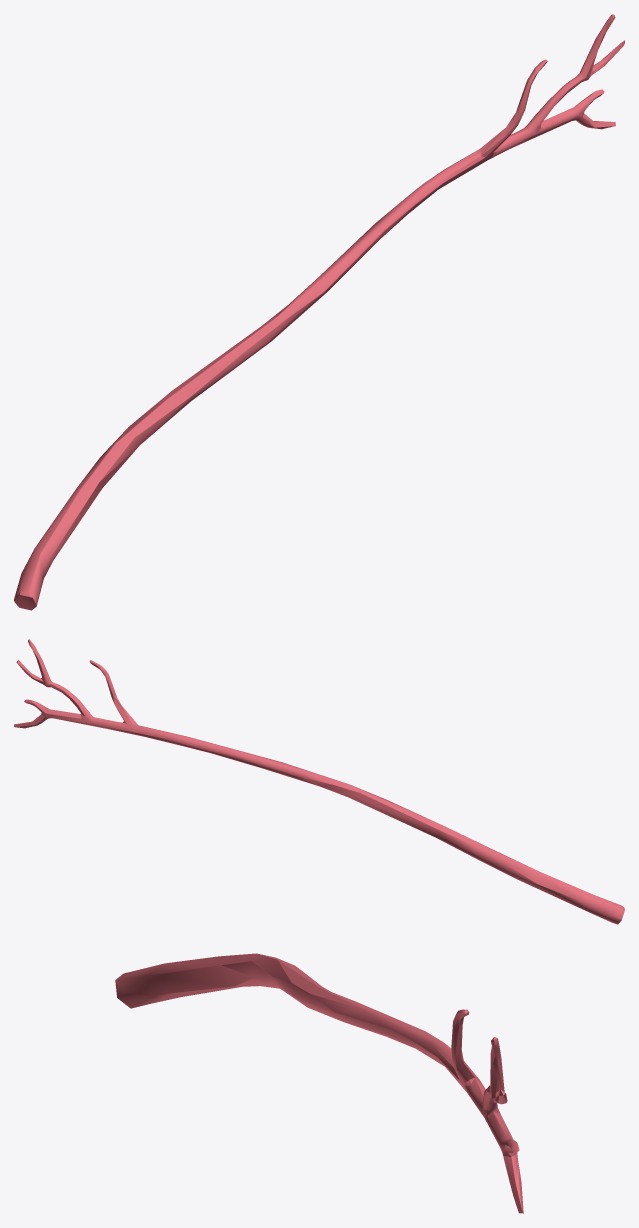
File: fma14793_fj3419.glb
3 views of the same model, one above another, from view 1: azimuth 30°, elevation 25°; view 2: azimuth 150°, elevation 25°; view 3: azimuth 270°, elevation 25° (orthographic). The views are drawn at different scales.
Visible parts, largest first — view 1: FMA14793_FJ3419; view 2: FMA14793_FJ3419; view 3: FMA14793_FJ3419.
Part boxes in pixels (x1,y1,x2,y2): FMA14793_FJ3419: [14, 14, 624, 610]; FMA14793_FJ3419: [14, 639, 624, 924]; FMA14793_FJ3419: [115, 953, 523, 1213].
Bounding box in the file's own units: 0.0289 × 0.0122 × 0.00993.
